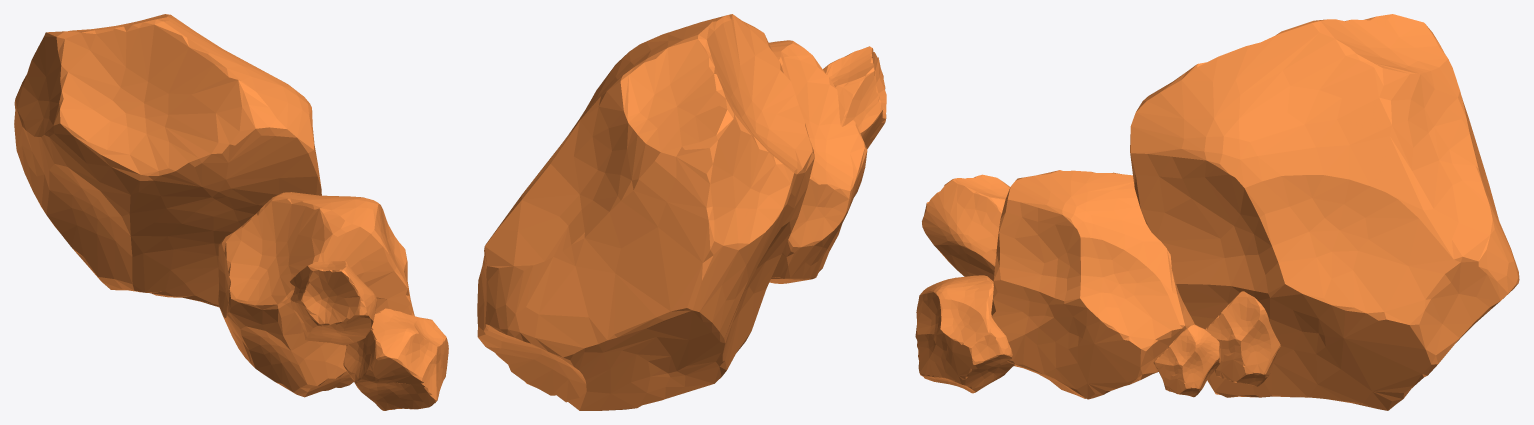
The model's file is multipleRocks.fbx.
3 views of the same model, side by side, from view 1: azimuth 30°, elevation 25°; view 2: azimuth 150°, elevation 25°; view 3: azimuth 270°, elevation 25° (orthographic). The views are drawn at different scales.
Visible parts, largest first — view 1: Cube.004, Cube, Cube.001, Cube.005; view 2: Cube.004, Cube, Cube.005; view 3: Cube.004, Cube, Cube.001, Cube.005, Cube.002, Cube.003.
Boxes of the visible parts, x1,y1,x2,y2 form: Cube.004: (14,14,321,307); Cube: (218,192,414,397); Cube.001: (343,308,448,410); Cube.005: (290,261,377,345); Cube.004: (477,14,814,410); Cube: (769,40,867,283); Cube.005: (823,46,886,148); Cube.004: (1130,14,1519,410); Cube: (991,170,1194,399); Cube.001: (915,275,1014,393); Cube.005: (922,174,1010,281); Cube.002: (1205,291,1280,386); Cube.003: (1153,324,1220,397).
Bounding box in the file's own units: 1668 × 1865 × 3043.
